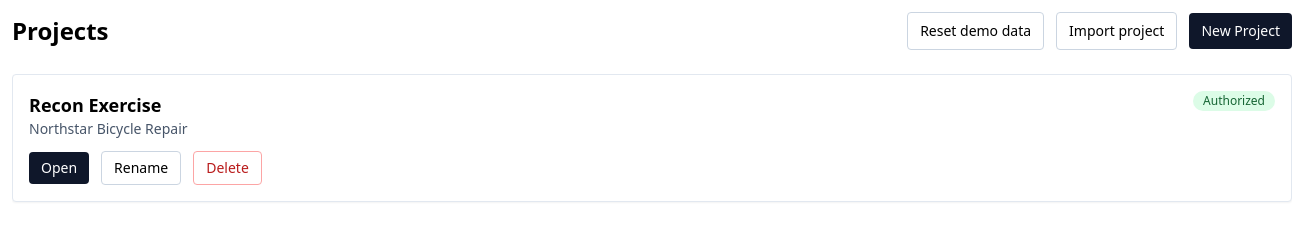
ProjectsScreen › renames a project
Click the button "Rename": (141, 168) [101,151,181,185]
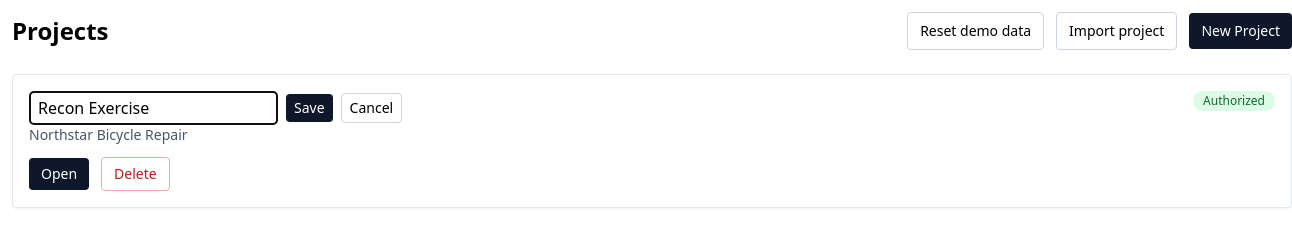
Replace the text in the field with "Renamed Recon": (154, 108) [29,91,278,125]
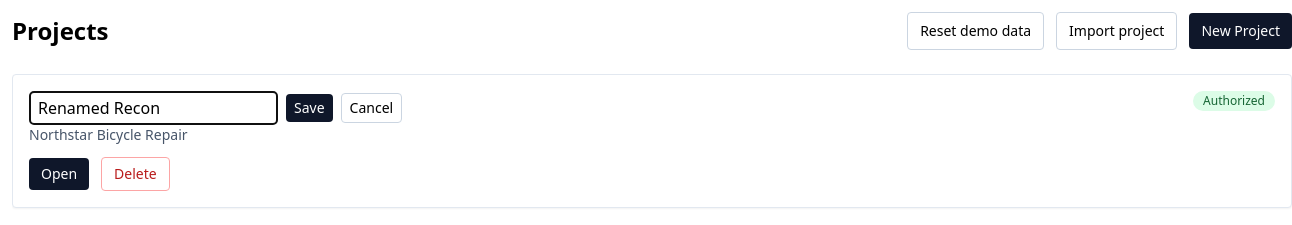
Click the button "Save": (309, 108) [286,94,333,122]
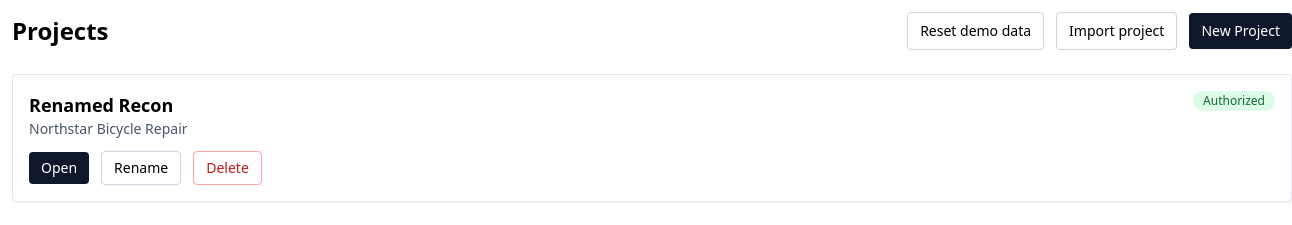
Now the heading "Renamed Recon" is shown, box [29,91,188,119]
Now the heading "Renamed Recon" reads "Renamed Recon", box [29,93,173,117]
